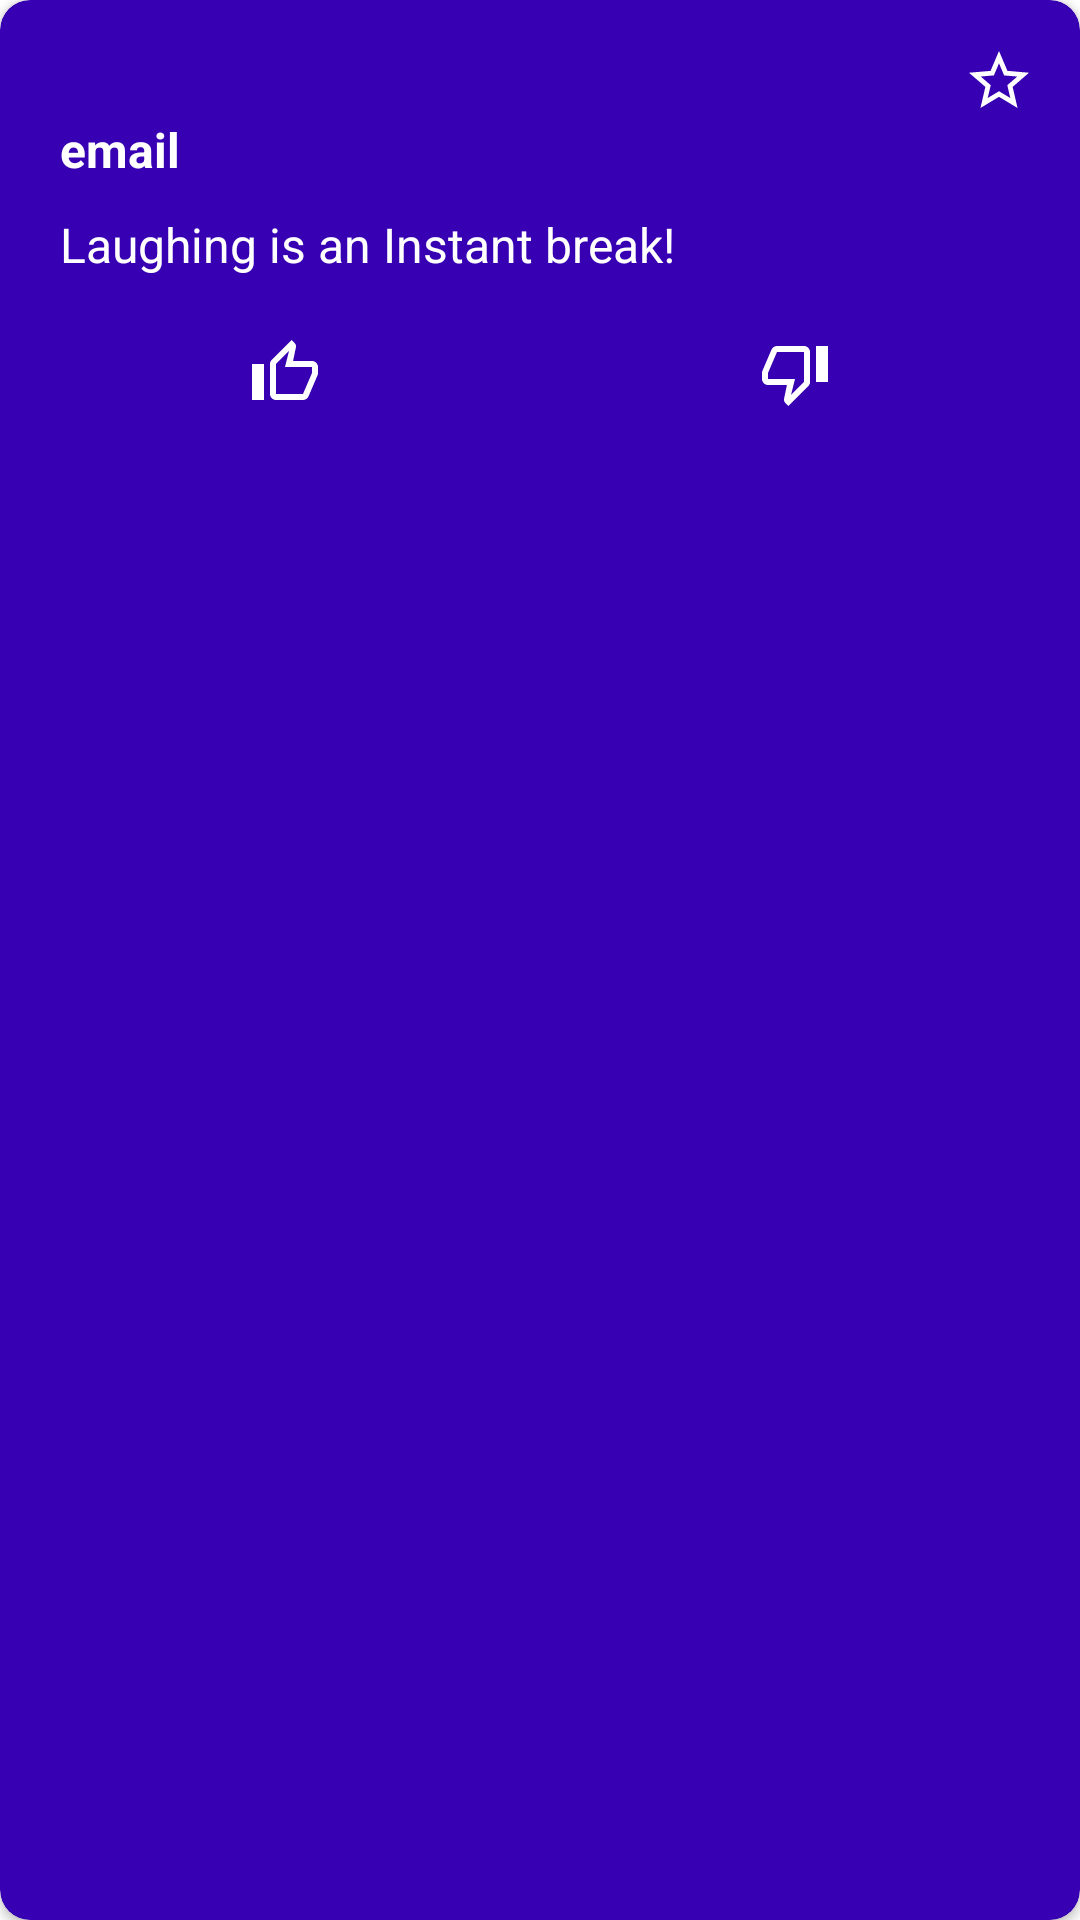

Where icons sit on this 1080×1920 app screen, as [left=x1, top=y1, right=x2, bottom=y2]:
dis like: [left=762, top=346, right=828, bottom=406]
like: [left=252, top=340, right=318, bottom=400]
star: [left=969, top=51, right=1029, bottom=108]
